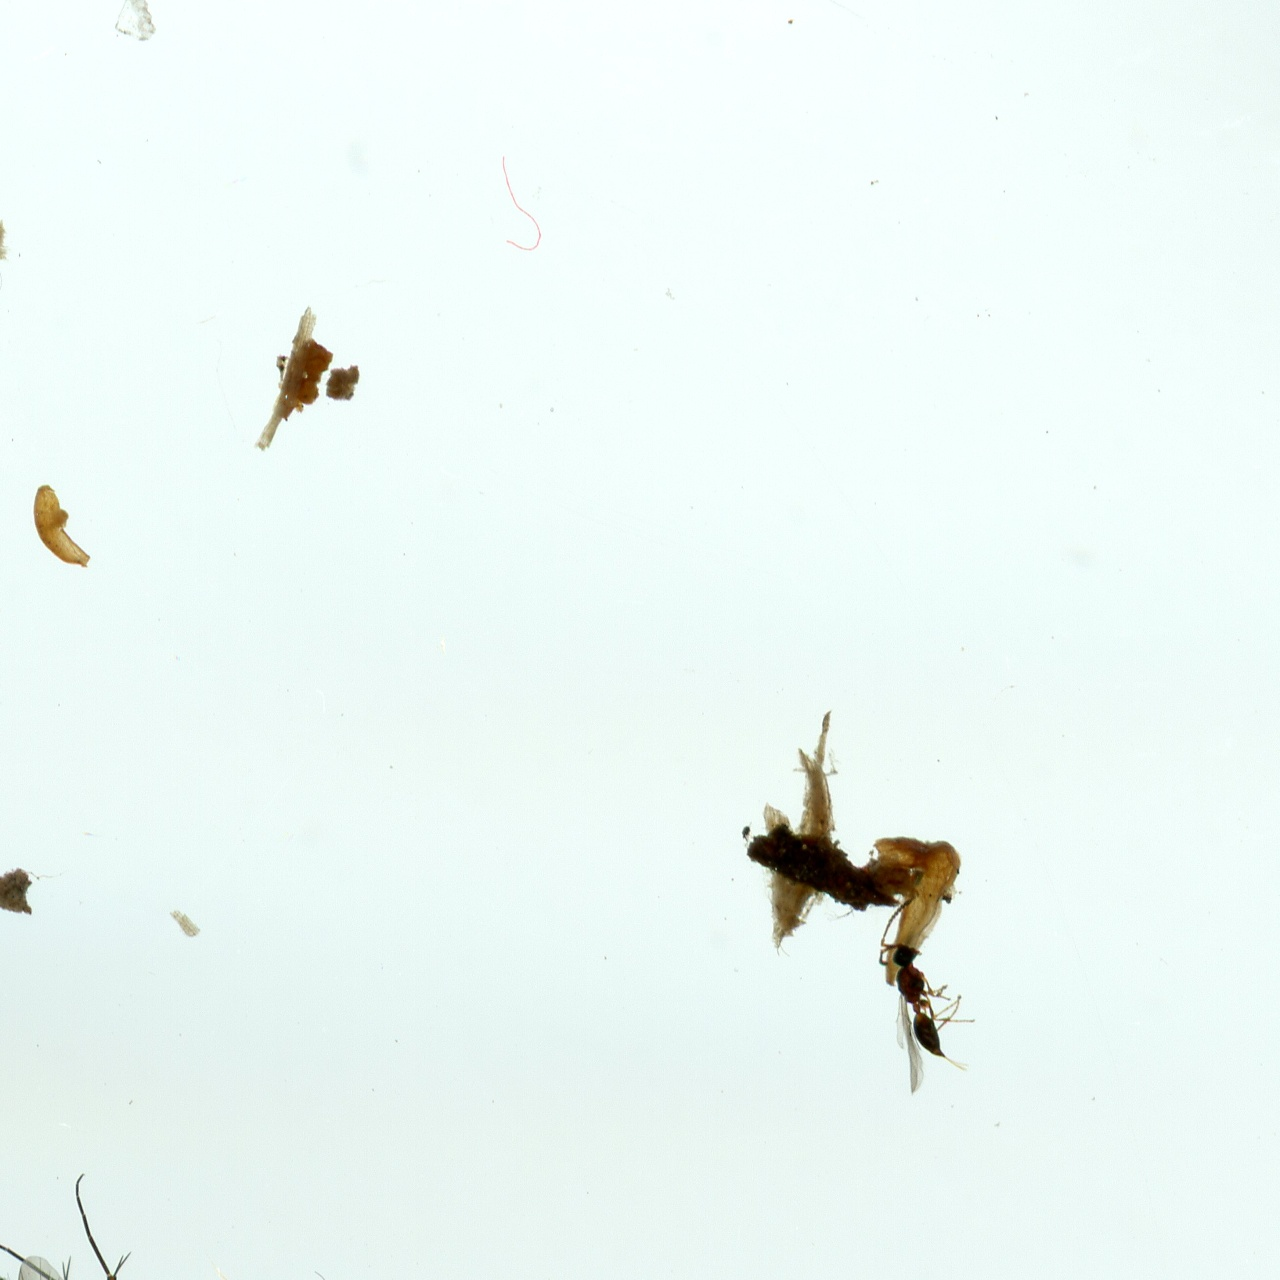arthropod: (842, 873, 999, 1109), (0, 1165, 316, 1280)
